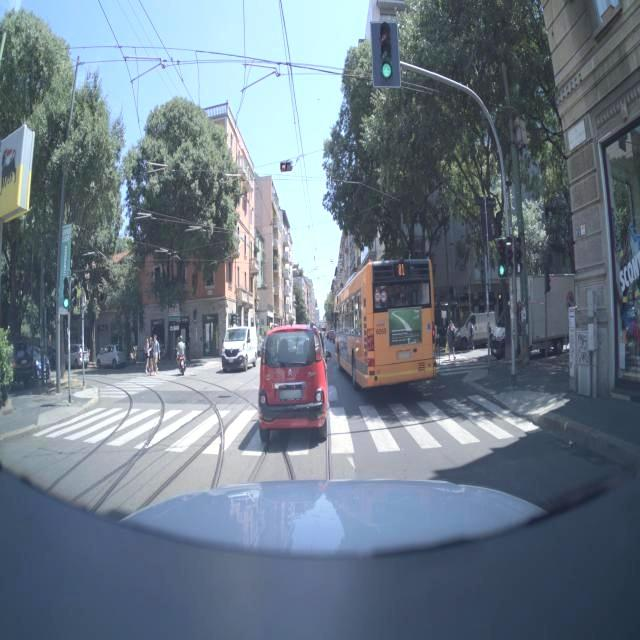Green: (364, 15, 414, 96), (62, 275, 74, 311)
Yellow: (270, 157, 296, 175)
